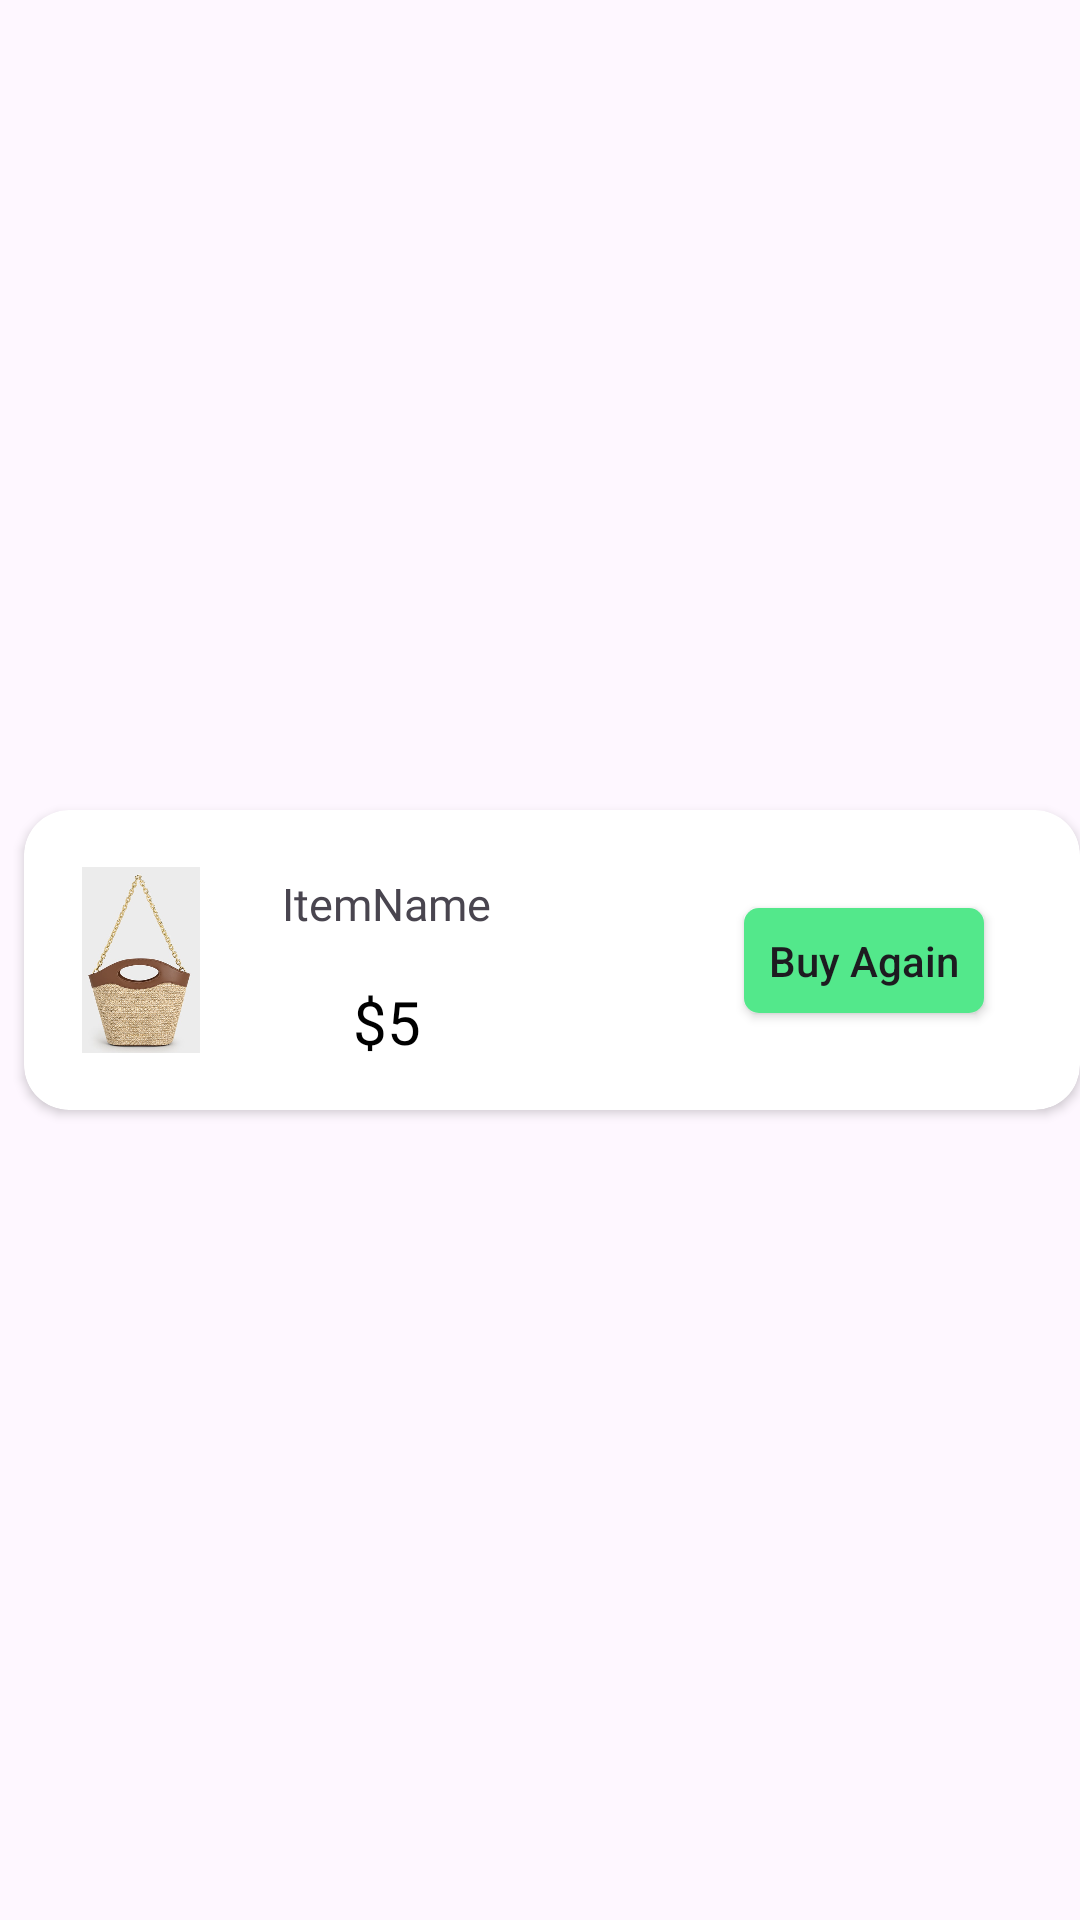

Screen size 1080 × 1920. Icon name, then its box in pixels as (x1, y1, x2, y2):
bag: (82, 867, 200, 1053)
